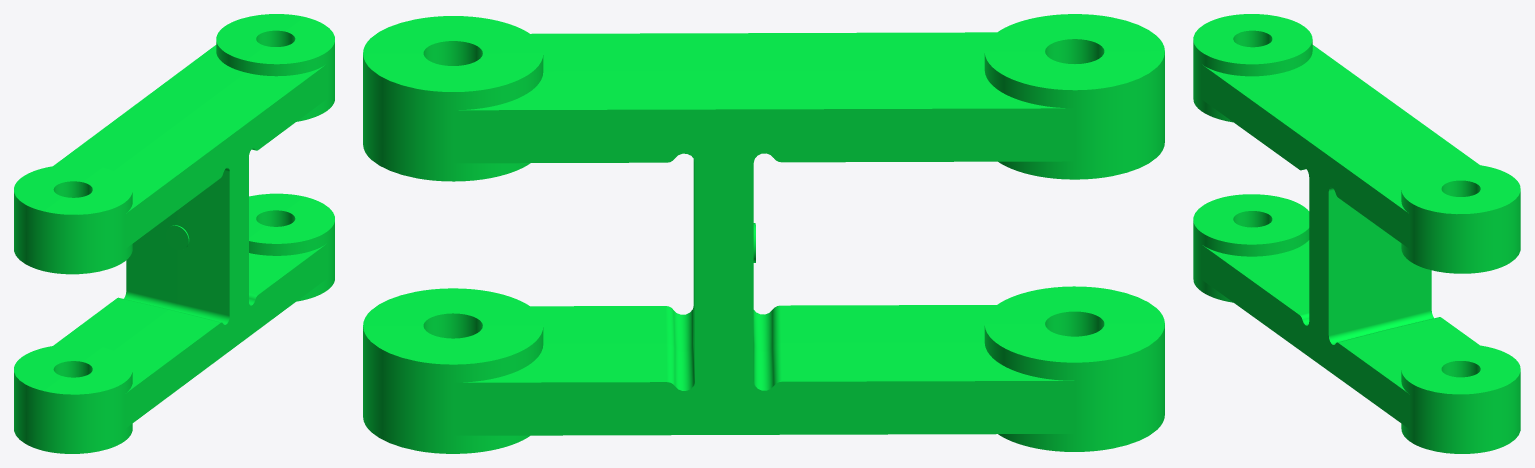
The model's file is gripper_right2.dae.
The picture shows the model from 3 angles, left to right: view 1: azimuth 30°, elevation 25°; view 2: azimuth 150°, elevation 25°; view 3: azimuth 270°, elevation 25°; orthographic projection. The views are drawn at different scales.
Parts seen in each view (by area): view 1: Brep; view 2: Brep; view 3: Brep.
Boxes of the visible parts, box(x1,y1,x2,y2) form: Brep: box(14, 14, 334, 453); Brep: box(363, 14, 1164, 453); Brep: box(1193, 14, 1520, 453).
Size of the model in its own units: 35.72 by 24.68 by 20.
